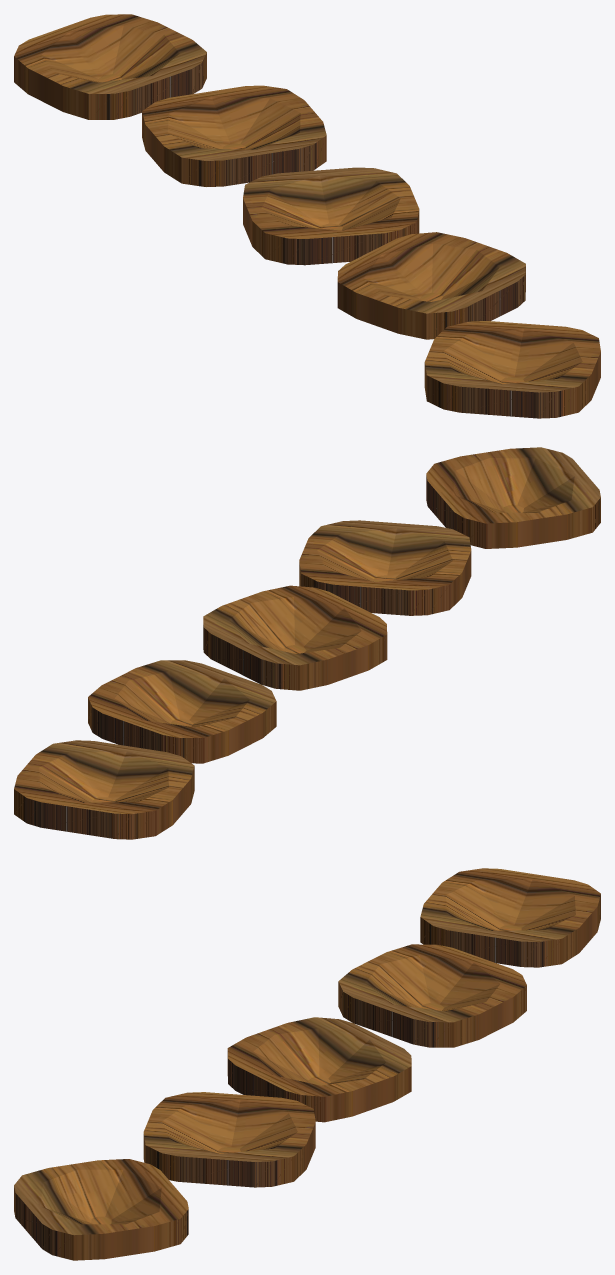
The model's file is starslots.FBX.
3 renders of one model, top to bottom at view 1: azimuth 30°, elevation 25°; view 2: azimuth 150°, elevation 25°; view 3: azimuth 330°, elevation 25°, orthographic. The views are drawn at different scales.
Visible parts, largest first — view 1: StarSlots; view 2: StarSlots; view 3: StarSlots.
Part boxes in pixels (left/top/right/bottom): StarSlots: left=14, top=14, right=600, bottom=418; StarSlots: left=14, top=447, right=600, bottom=839; StarSlots: left=14, top=868, right=600, bottom=1260.
Bounding box in the file's own units: 6.98 × 0.9143 × 31.79.
